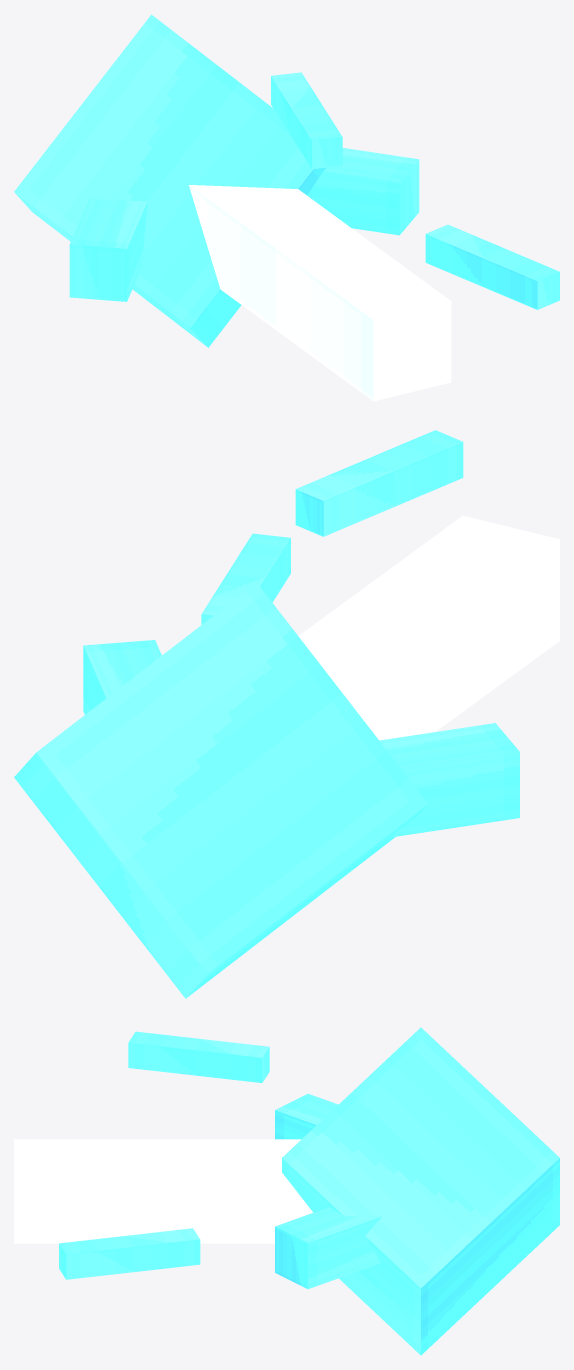
Rendered from tower_shot_blue.gltf.
3 views of the same model, one above another, from view 1: azimuth 30°, elevation 25°; view 2: azimuth 150°, elevation 25°; view 3: azimuth 270°, elevation 25° (orthographic). The views are drawn at different scales.
Parts seen in each view (by area): view 1: core_mesh; view 2: core_mesh; view 3: core_mesh.
Part boxes in pixels (x1,y1,x2,y2): core_mesh: (14,14,559,401); core_mesh: (14,430,559,998); core_mesh: (14,1027,559,1355).
Bounding box in the file's own units: 0.4812 × 0.4535 × 0.7378.
1 material, 1 textured.
